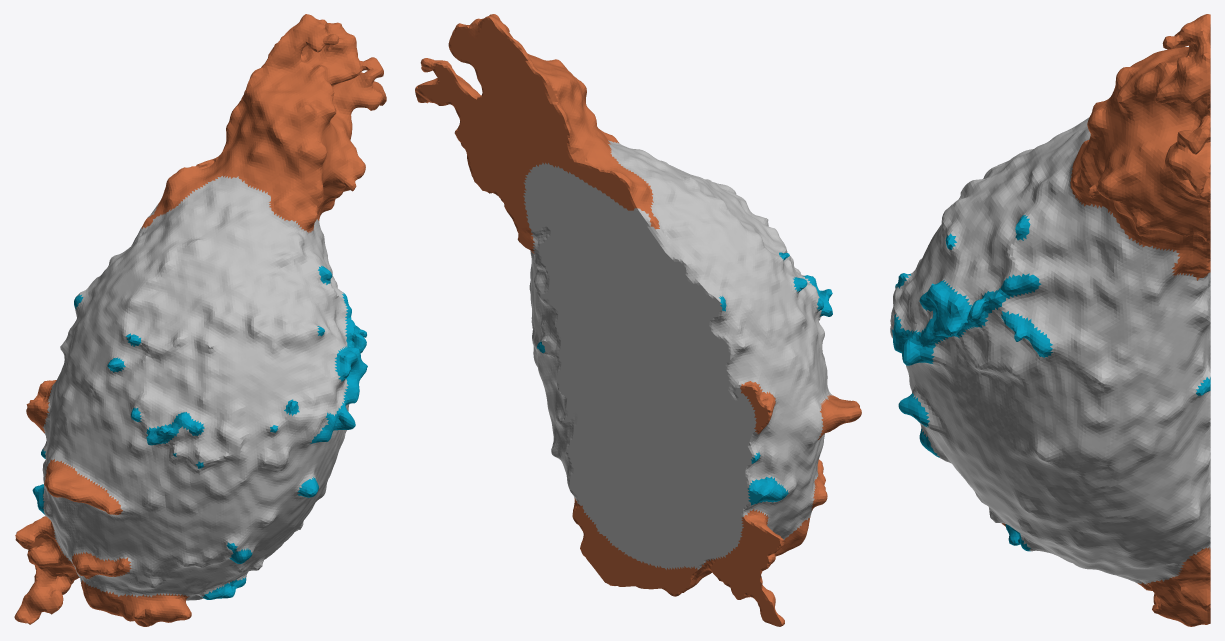
3 views of the same model, side by side, from view 1: azimuth 30°, elevation 25°; view 2: azimuth 150°, elevation 25°; view 3: azimuth 270°, elevation 25° (orthographic). The views are drawn at different scales.
Bounding box in the file's own units: 124 × 163 × 68.97.
